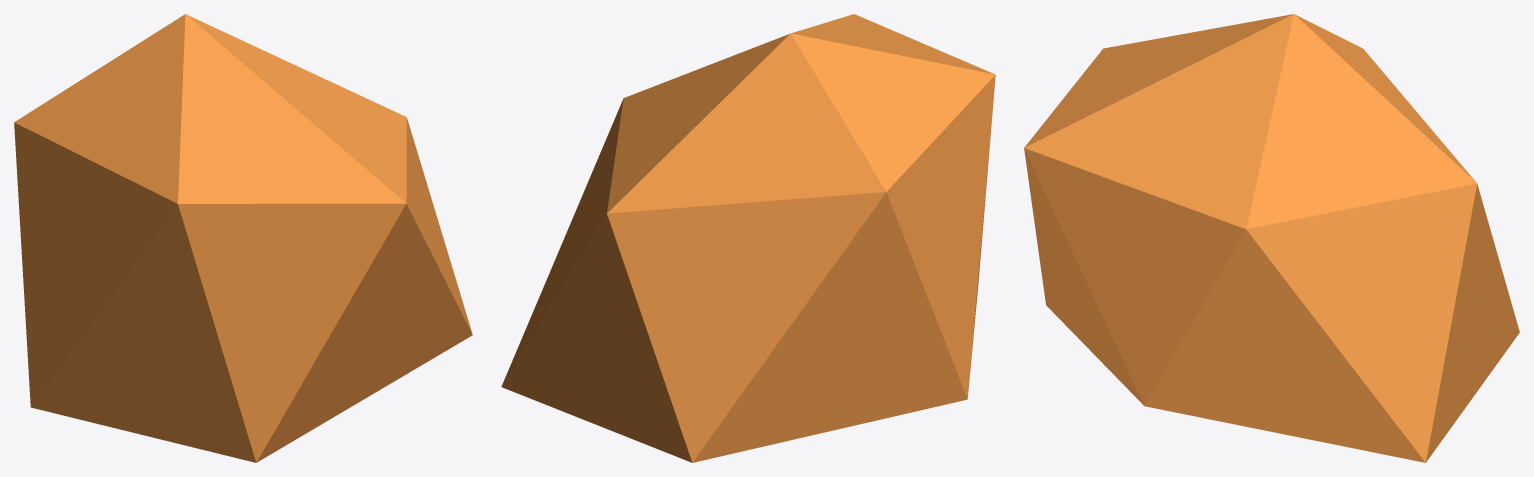
The model's file is FallingRock_Medium.fbx.
3 renders of one model, left to right at view 1: azimuth 30°, elevation 25°; view 2: azimuth 150°, elevation 25°; view 3: azimuth 270°, elevation 25°, orthographic. The views are drawn at different scales.
Parts seen in each view (by area): view 1: FallingRock_Medium; view 2: FallingRock_Medium; view 3: FallingRock_Medium.
Part boxes in pixels (bbox=[...]): FallingRock_Medium: bbox=[14, 14, 472, 462]; FallingRock_Medium: bbox=[501, 14, 995, 462]; FallingRock_Medium: bbox=[1024, 14, 1519, 462].
Size of the model in its own units: 110 by 114 by 127.
